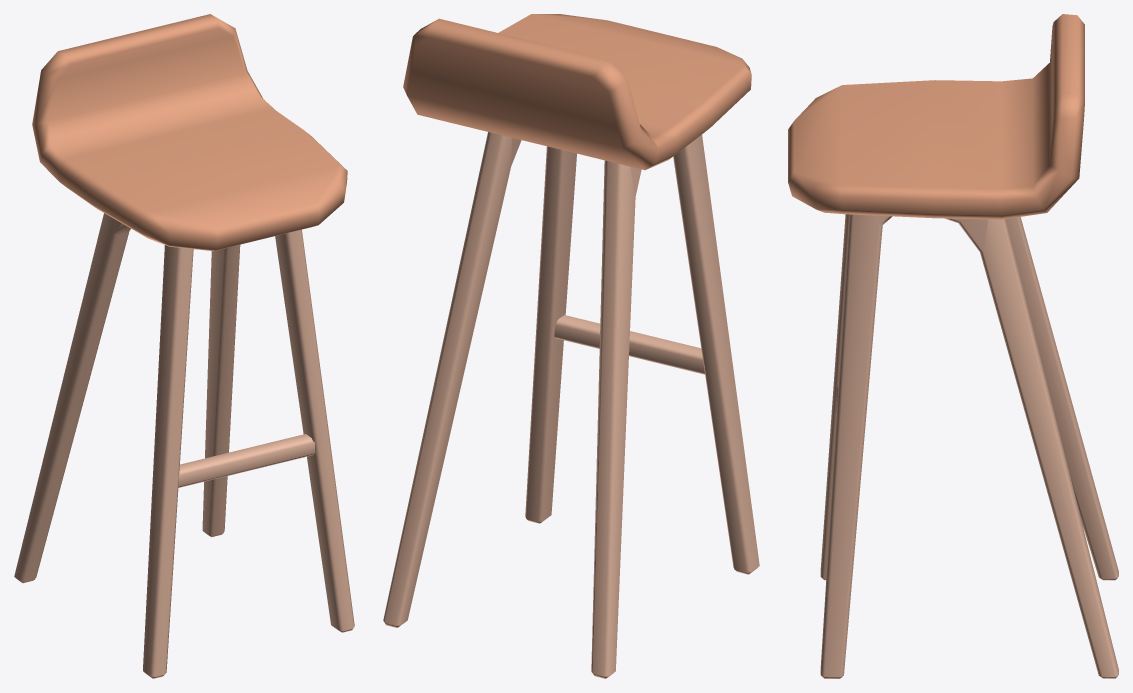
Rendered from chair_042.fbx.
3 renders of one model, left to right at view 1: azimuth 30°, elevation 25°; view 2: azimuth 150°, elevation 25°; view 3: azimuth 270°, elevation 25°, orthographic. The views are drawn at different scales.
Visible parts, largest first — view 1: chair_042; view 2: chair_042; view 3: chair_042.
Part boxes in pixels (x1,y1,x2,y2): chair_042: [14, 14, 354, 678]; chair_042: [383, 14, 759, 678]; chair_042: [788, 14, 1118, 678].
Bounding box in the file's own units: 49.37 × 59.77 × 114.
